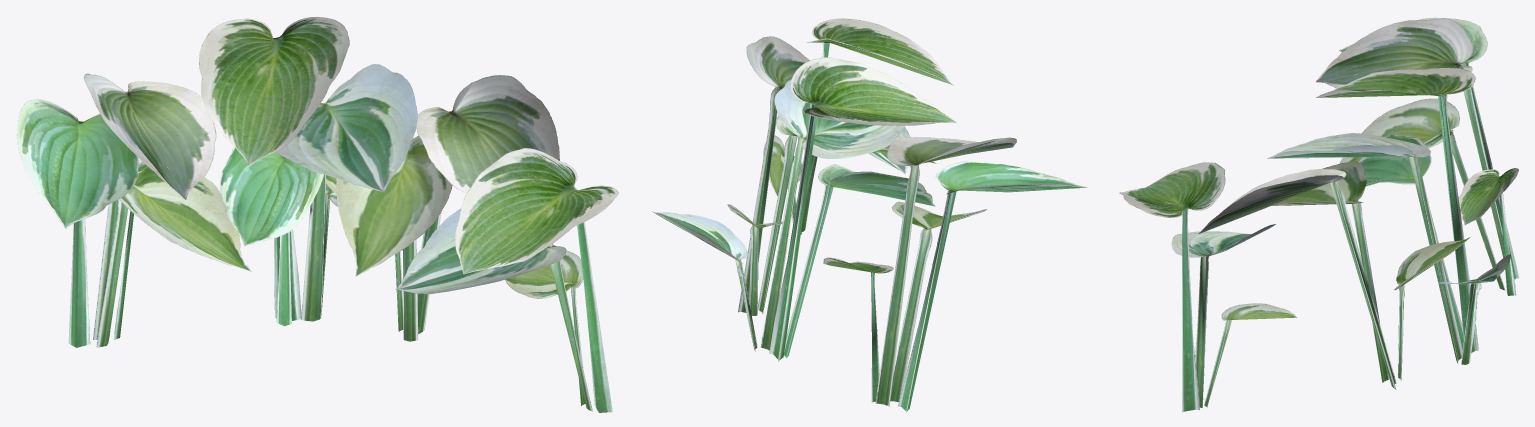
The model's file is plant_small_wg_00_c-corner04.fbx.
3 views of the same model, side by side, from view 1: azimuth 30°, elevation 25°; view 2: azimuth 150°, elevation 25°; view 3: azimuth 270°, elevation 25° (orthographic). The views are drawn at different scales.
Parts seen in each view (by area): view 1: plant_small_wg_00_c-corner04; view 2: plant_small_wg_00_c-corner04; view 3: plant_small_wg_00_c-corner04.
Boxes of the visible parts, left/top/right/bottom form: plant_small_wg_00_c-corner04: left=16, top=17, right=618, bottom=412; plant_small_wg_00_c-corner04: left=652, top=18, right=1087, bottom=412; plant_small_wg_00_c-corner04: left=1119, top=17, right=1519, bottom=412.
Size of the model in its own units: 51.41 by 34.63 by 47.02.
1 material, 1 textured.
